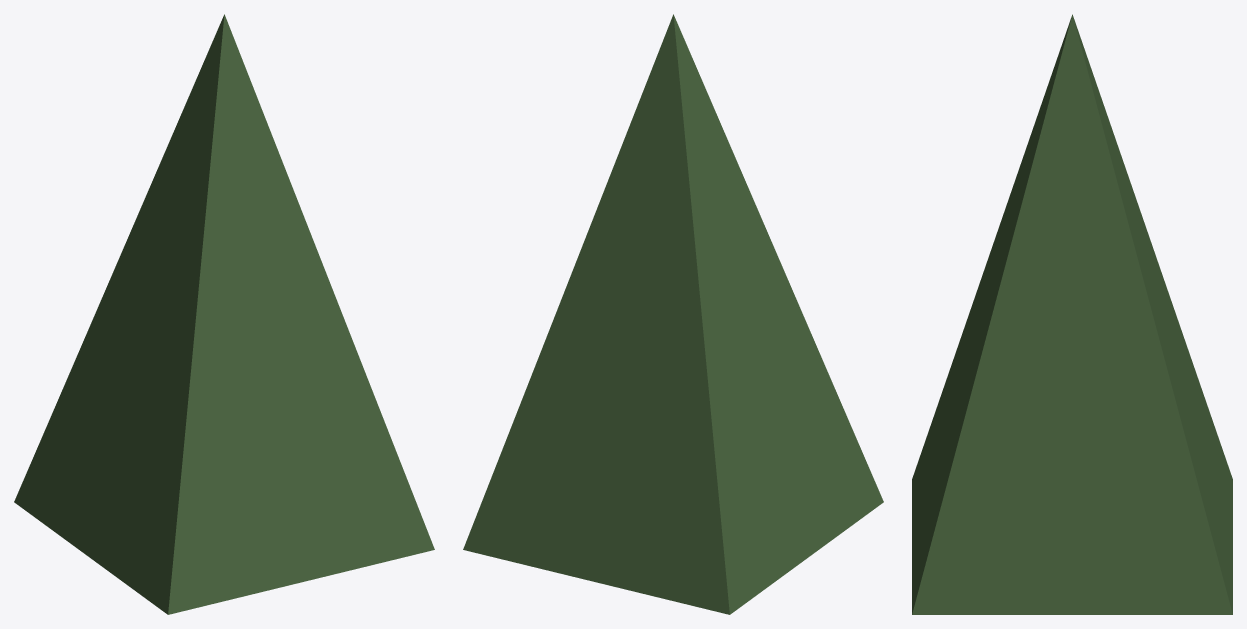
Rendered from Tree.fbx.
3 renders of one model, left to right at view 1: azimuth 30°, elevation 25°; view 2: azimuth 150°, elevation 25°; view 3: azimuth 270°, elevation 25°, orthographic. The views are drawn at different scales.
Visible parts, largest first — view 1: Plane; view 2: Plane; view 3: Plane.
Part boxes in pixels (x1,y1,x2,y2): Plane: [14, 14, 434, 614]; Plane: [463, 14, 883, 614]; Plane: [912, 14, 1232, 614].
Size of the model in its own units: 109 by 200 by 109.
